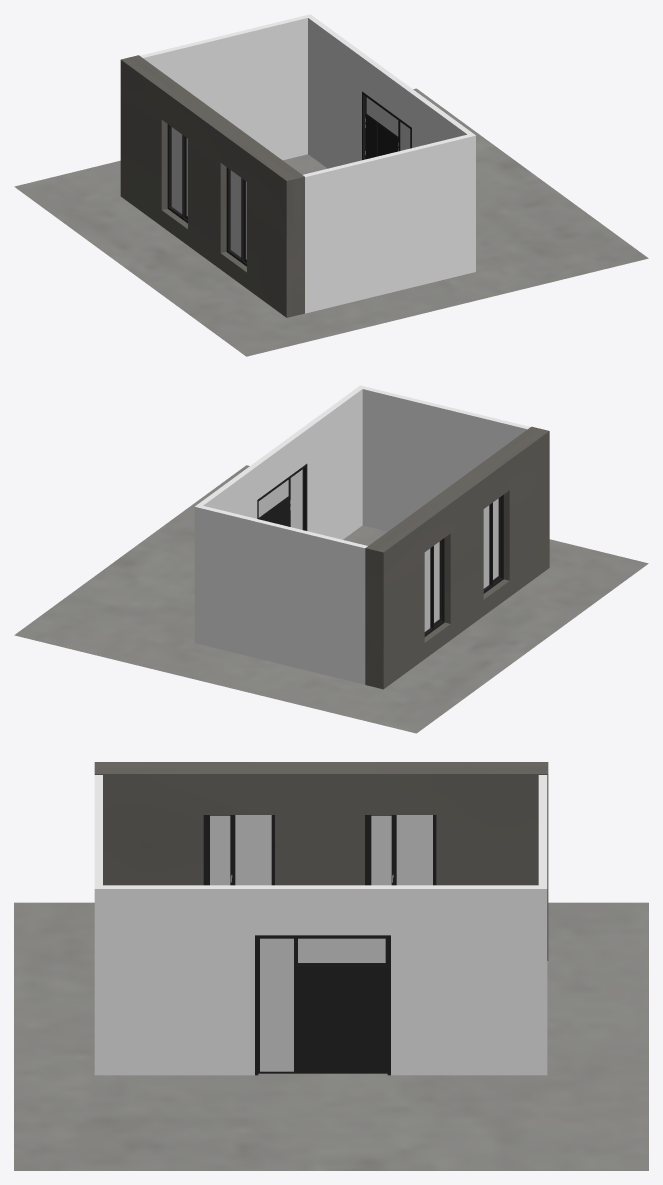
Rendered from MediumRoom.fbx.
The picture shows the model from 3 angles, top to bottom: view 1: azimuth 30°, elevation 25°; view 2: azimuth 150°, elevation 25°; view 3: azimuth 270°, elevation 25°; orthographic projection. The views are drawn at different scales.
Visible parts, largest first — view 1: Walls, Floor, OuterWall, Glass.002, Glass.001, Door, OuterFrame.001, OuterFrame.002, UpperGlass.001; view 2: Walls, Floor, OuterWall, Glass.001, Glass.002, SideGlass, OuterFrame.001, OuterFrame.002, UpperGlass.001, OuterFrame.008; view 3: Floor, Walls, OuterWall, Door, SideGlass, Glass.002, Glass.001, UpperGlass.001, OuterFrame.008, OuterFrame.002, OuterFrame.001, SideFrame.001.
Boxes of the visible parts, x1,y1,x2,y2 form: Walls: (140, 14, 475, 313); Floor: (14, 88, 648, 356); OuterWall: (120, 55, 304, 317); Glass.002: (171, 127, 187, 215); Glass.001: (230, 170, 246, 259); Door: (366, 115, 398, 159); OuterFrame.001: (226, 167, 246, 266); OuterFrame.002: (167, 124, 187, 223); UpperGlass.001: (366, 97, 398, 136); Walls: (194, 385, 530, 684); Floor: (14, 465, 648, 733); OuterWall: (365, 426, 549, 689); Glass.001: (483, 498, 498, 588); Glass.002: (424, 542, 439, 631); SideGlass: (290, 469, 302, 529); OuterFrame.001: (483, 494, 503, 593); OuterFrame.002: (424, 538, 444, 636); UpperGlass.001: (258, 480, 288, 517); OuterFrame.008: (257, 464, 307, 530); Floor: (14, 902, 648, 1170); Walls: (94, 775, 547, 1075); OuterWall: (94, 762, 548, 960); Door: (296, 965, 386, 1073); SideGlass: (260, 938, 293, 1071); Glass.002: (371, 815, 432, 885); Glass.001: (210, 815, 271, 885); UpperGlass.001: (298, 938, 385, 962); OuterFrame.008: (255, 935, 390, 1075); OuterFrame.002: (365, 815, 436, 885); OuterFrame.001: (203, 815, 274, 885); SideFrame.001: (258, 938, 295, 1073).
Size of the model in its own units: 1112 by 362 by 1112.
